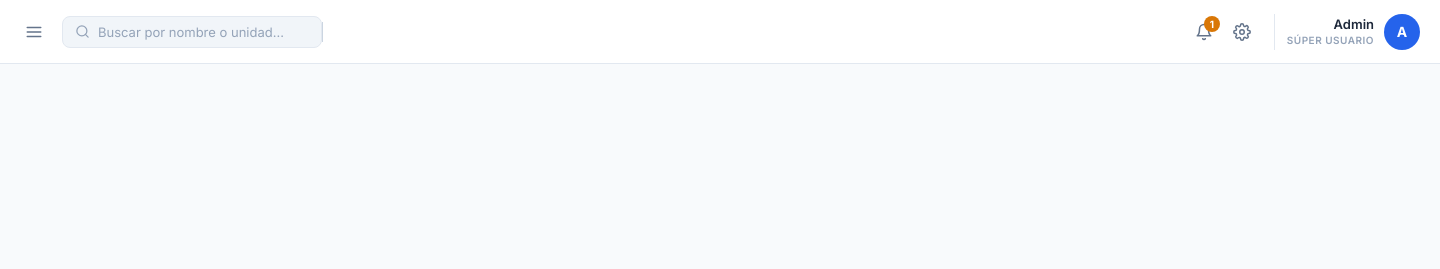
Navbar › muestra el panel de notificaciones del administrador
Expected: the text "1" is shown, [1204,16,1220,32]
Click the button named "Notificaciones" at (1204, 32), box [1186,14,1222,50]
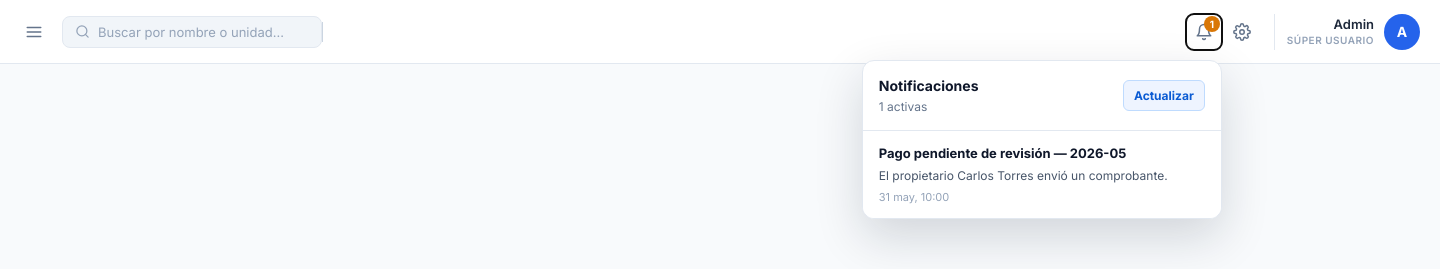
Expected: the text "Pago pendiente de revisión — 2026-05" is shown, [879,144,1126,160]
Expected: the text "El propietario Carlos Torres envió un comprobante." is shown, [879,166,1168,184]
